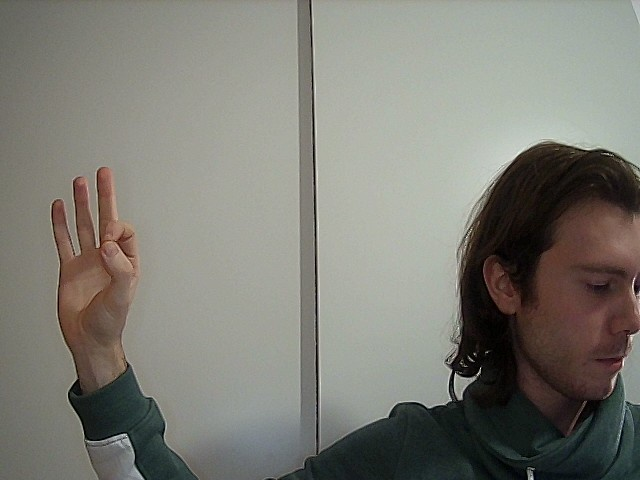f: (30, 161, 169, 350)
